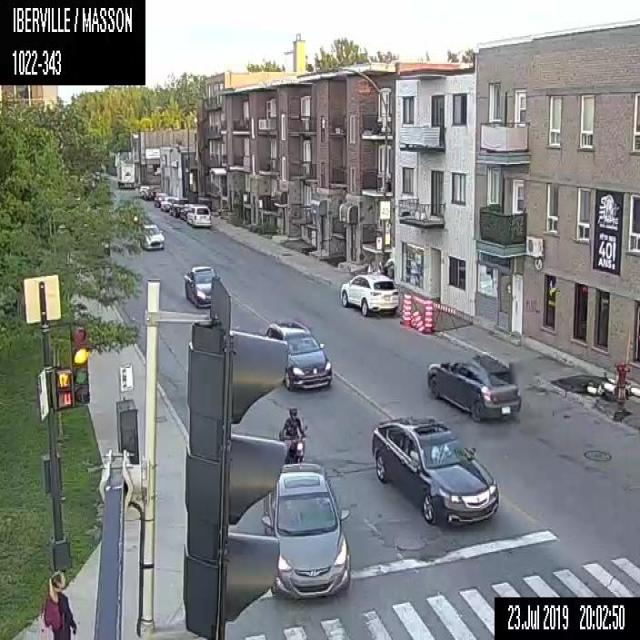construction: (548, 361, 633, 403), (399, 292, 413, 328), (423, 299, 435, 333), (412, 308, 424, 334)
pedestrian: (42, 570, 76, 638)
vehicle: (370, 412, 499, 525), (259, 458, 351, 599), (425, 349, 522, 422), (259, 317, 332, 392), (339, 271, 400, 317), (275, 402, 310, 462), (183, 263, 221, 308), (114, 158, 135, 190), (141, 223, 164, 249), (186, 204, 211, 226), (152, 190, 166, 207), (169, 199, 181, 217), (159, 196, 173, 210), (179, 201, 190, 218), (138, 184, 149, 196), (144, 188, 153, 200)
